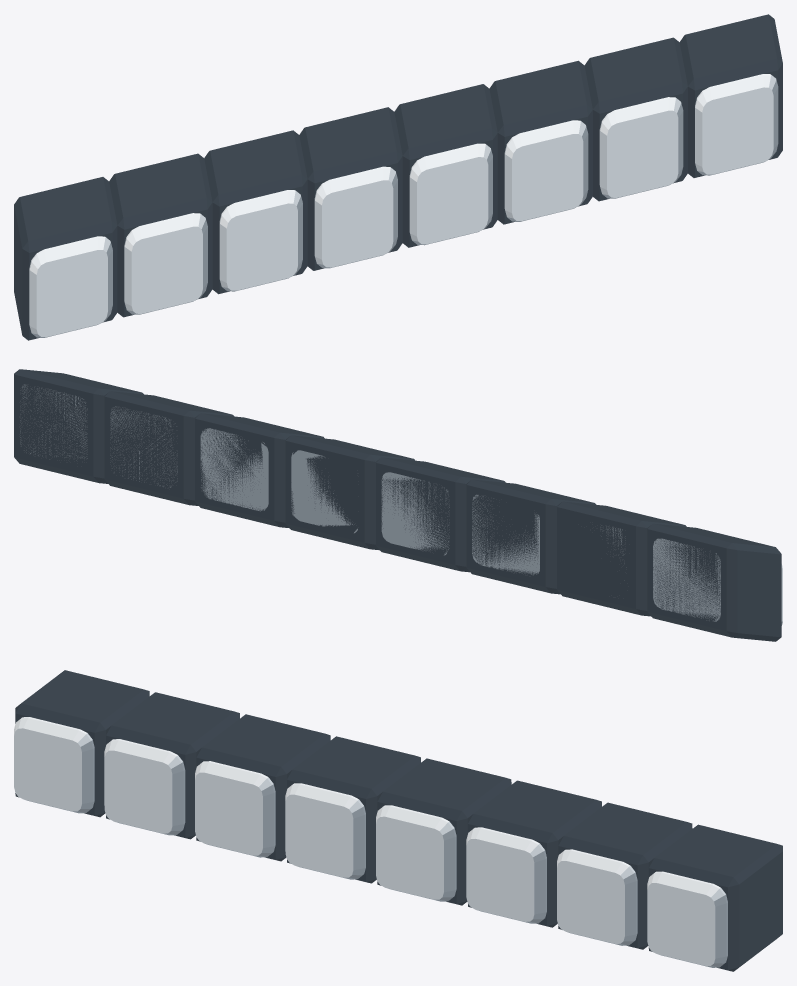
The model's file is Terrain_Block8x1.gltf.
The picture shows the model from 3 angles, top to bottom: view 1: azimuth 30°, elevation 25°; view 2: azimuth 150°, elevation 25°; view 3: azimuth 330°, elevation 25°; orthographic projection. The views are drawn at different scales.
Parts seen in each view (by area): view 1: Terrain_Block8x1_baked; view 2: Terrain_Block8x1_baked; view 3: Terrain_Block8x1_baked.
Part boxes in pixels (x1,y1,x2,y2): Terrain_Block8x1_baked: [14, 14, 782, 340]; Terrain_Block8x1_baked: [14, 369, 782, 641]; Terrain_Block8x1_baked: [14, 670, 782, 971].
Size of the model in its own units: 8.2 by 1.2 by 0.7.
